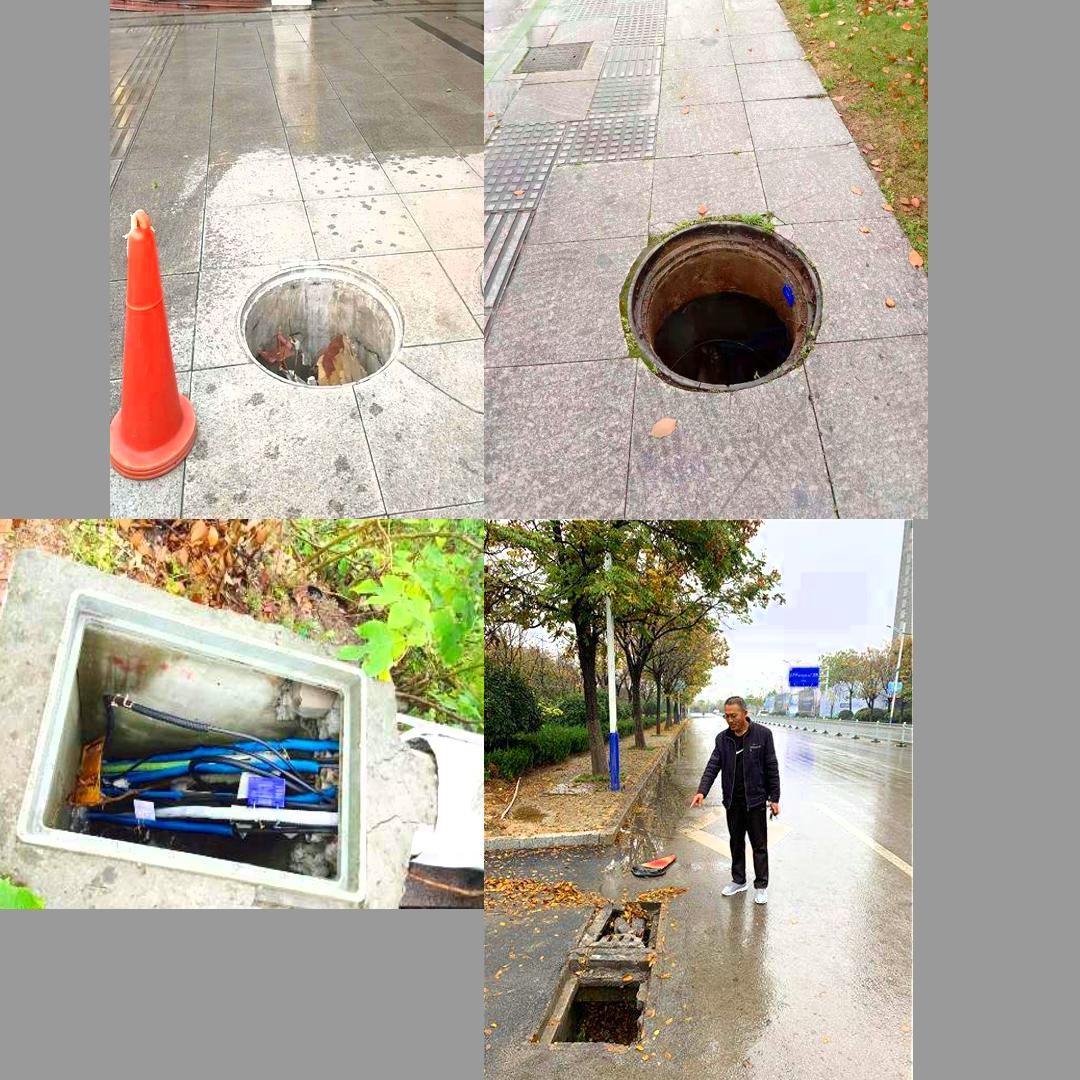good: (514, 42, 592, 73)
lose: (15, 589, 367, 903), (626, 218, 821, 393), (232, 255, 414, 401), (532, 888, 668, 1053)
